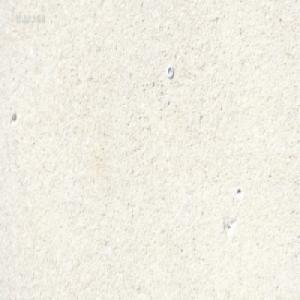Washer: (165, 64, 173, 78)
